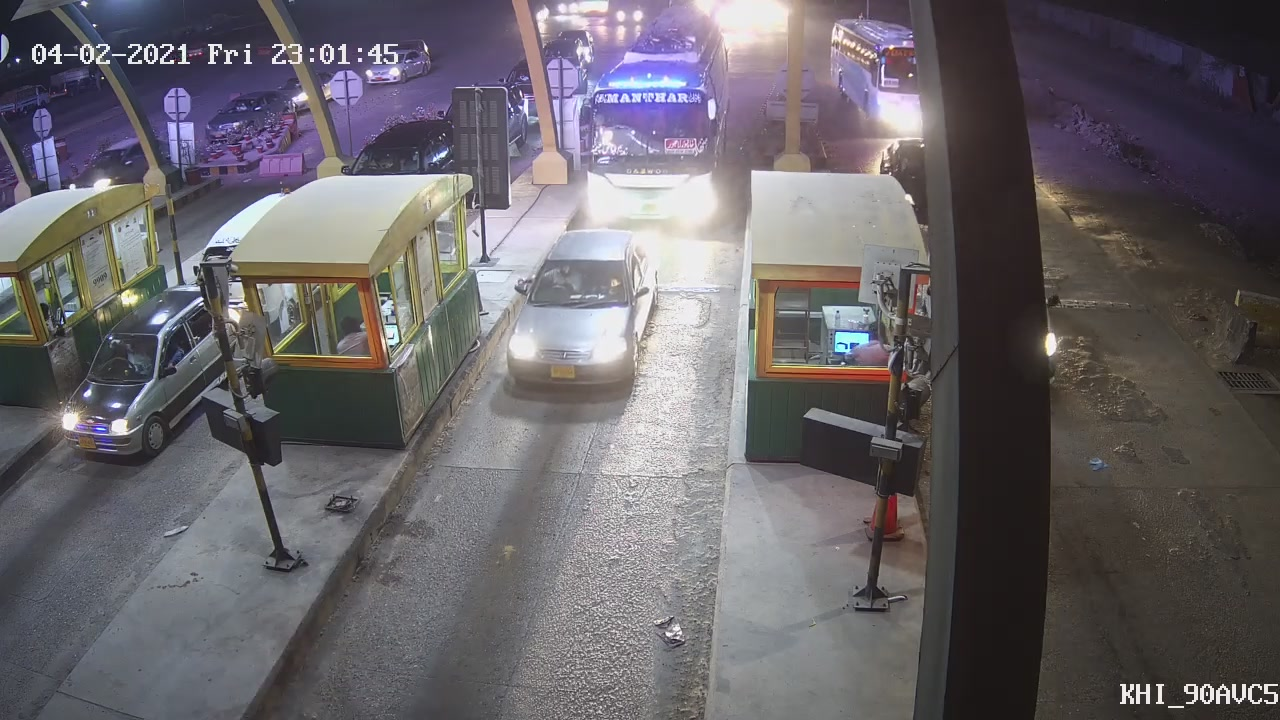F1: (503, 228, 660, 392)
F4: (581, 34, 727, 222)
